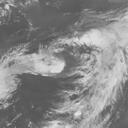cyclone: (1, 7, 127, 126)
